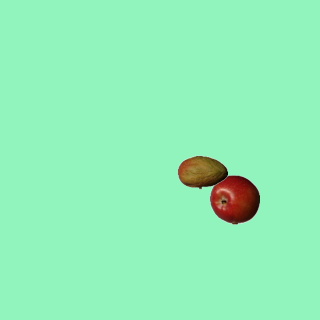Apple Braeburn: (209, 174, 259, 224)
Papaya: (177, 147, 227, 197)
